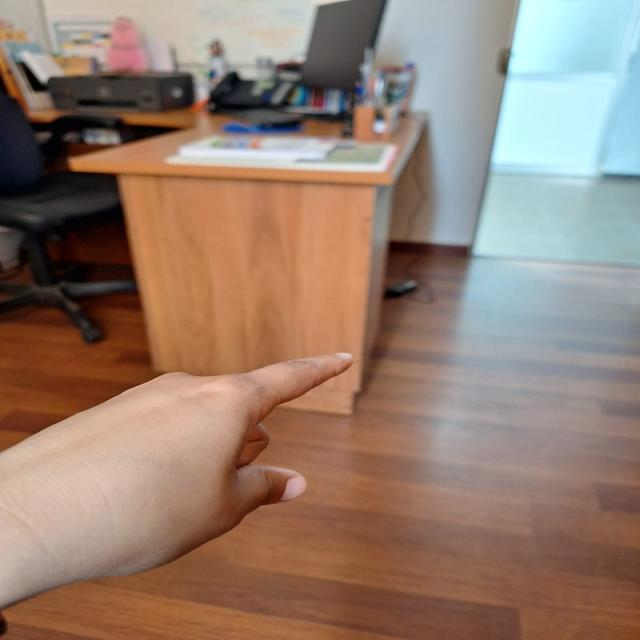S: (0, 343, 378, 608)
